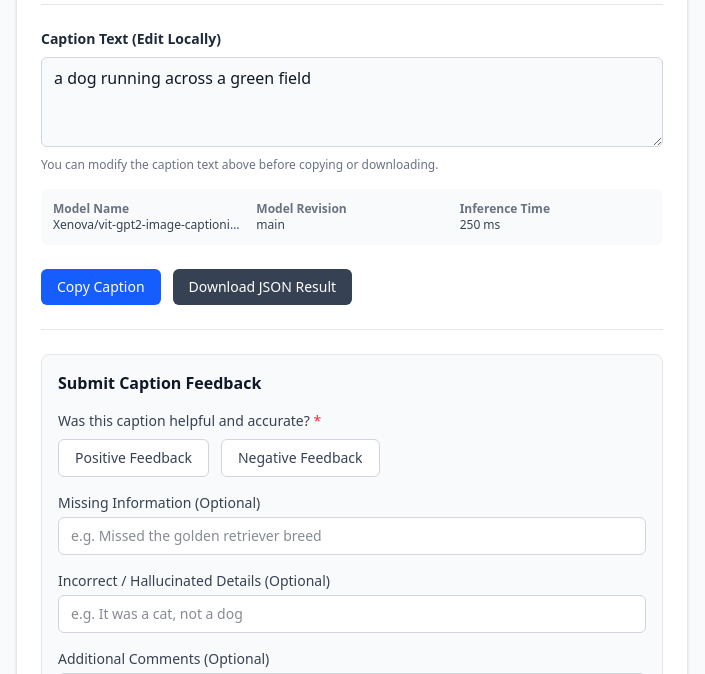
it: CaptionResultCard Component › submits positive feedback when rating button and submit are clicked
Click the button "Positive Feedback" at (133, 458), box [58,439,209,477]
(page scrolled)
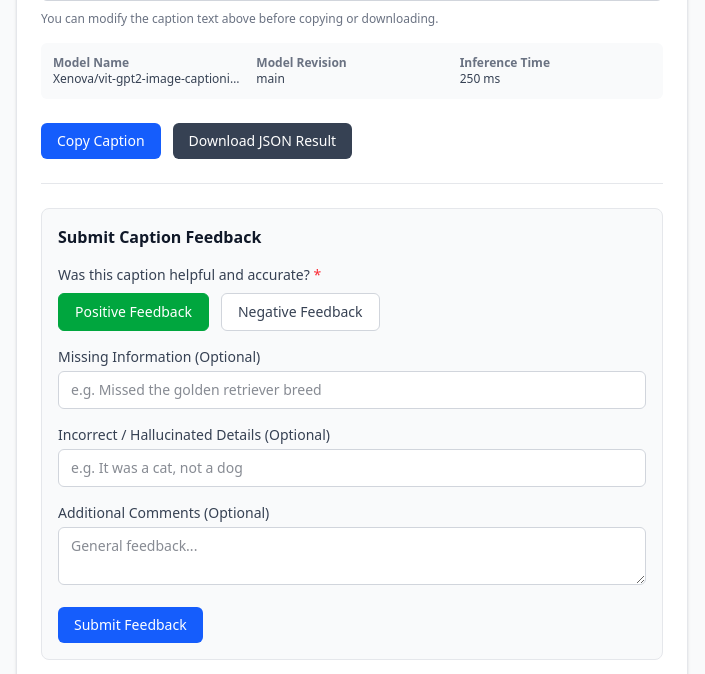
Click the button "Submit Feedback" at (130, 625), box [58,607,203,643]
(page scrolled)
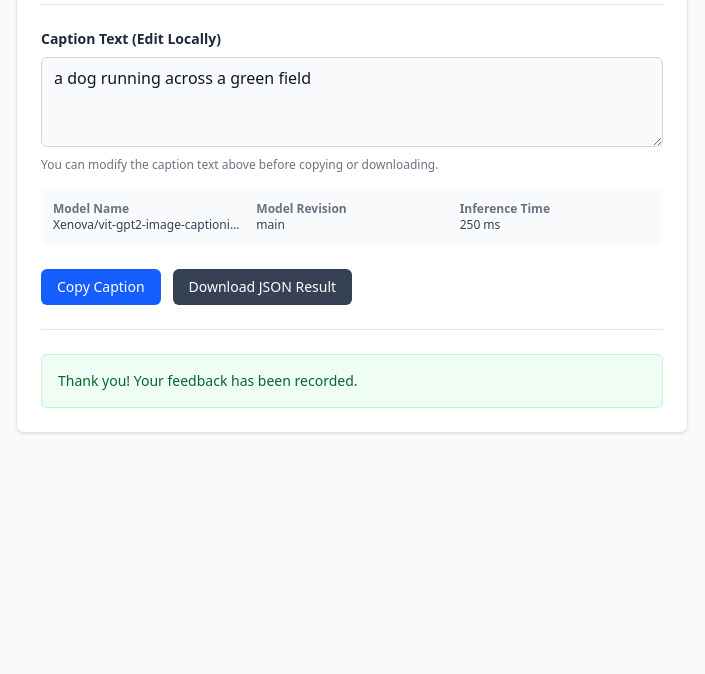
Expected: the message shows "Thank you! Your feedback has been recorded", [58,371,358,390]
